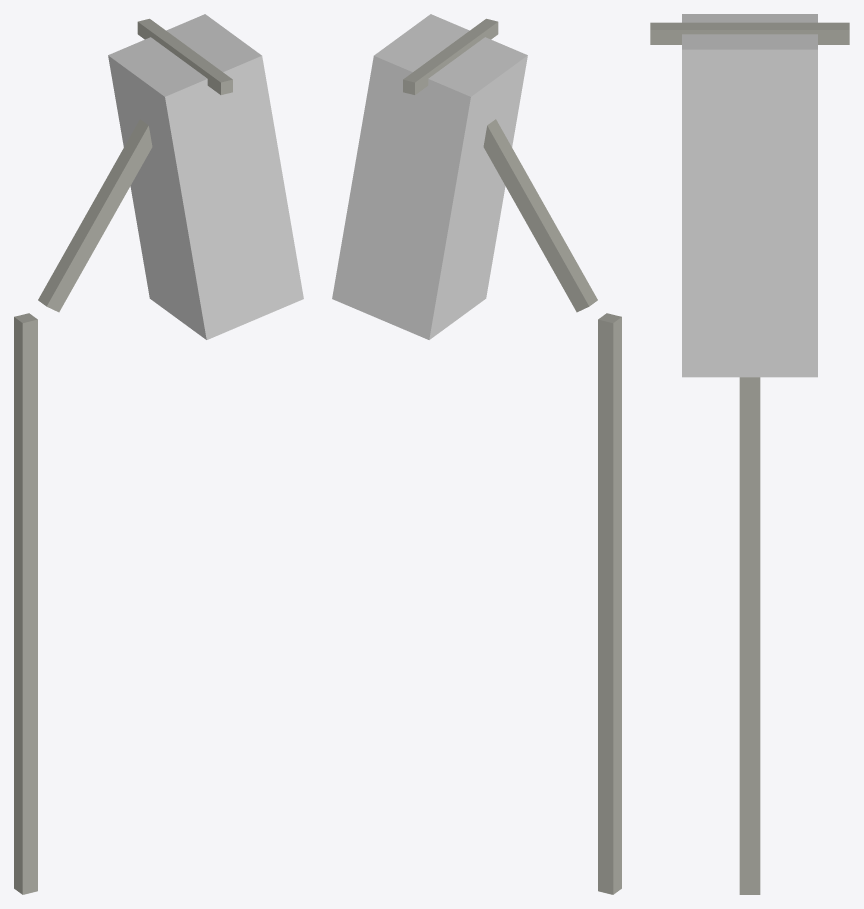
File: SM_MangaViento_v3_Rota_LOD0.fbx
3 renders of one model, left to right at view 1: azimuth 30°, elevation 25°; view 2: azimuth 150°, elevation 25°; view 3: azimuth 270°, elevation 25°, orthographic. The views are drawn at different scales.
Parts seen in each view (by area): view 1: SM_ambiente_aerodromo_v3_LOD0; view 2: SM_ambiente_aerodromo_v3_LOD0; view 3: SM_ambiente_aerodromo_v3_LOD0.
Boxes of the visible parts, x1,y1,x2,y2 form: SM_ambiente_aerodromo_v3_LOD0: (14,14,303,894); SM_ambiente_aerodromo_v3_LOD0: (332,14,621,894); SM_ambiente_aerodromo_v3_LOD0: (650,14,849,894).
Bounding box in the file's own units: 1.69 × 5.07 × 0.95.
